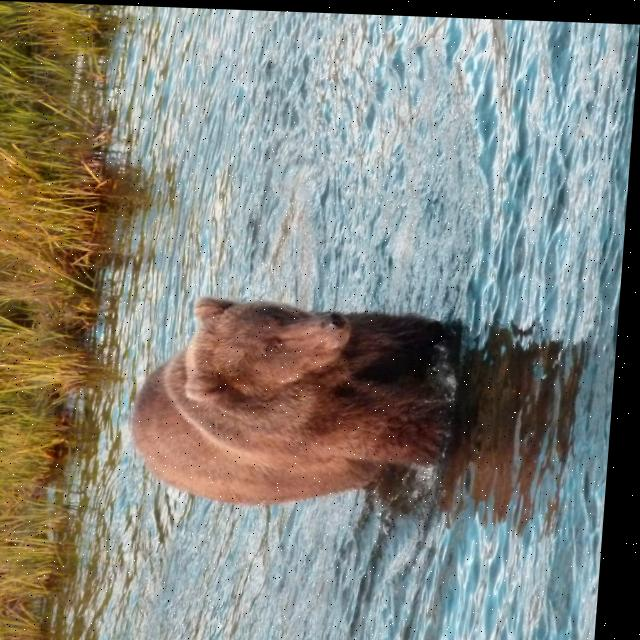bear face: (131, 290, 452, 505)
